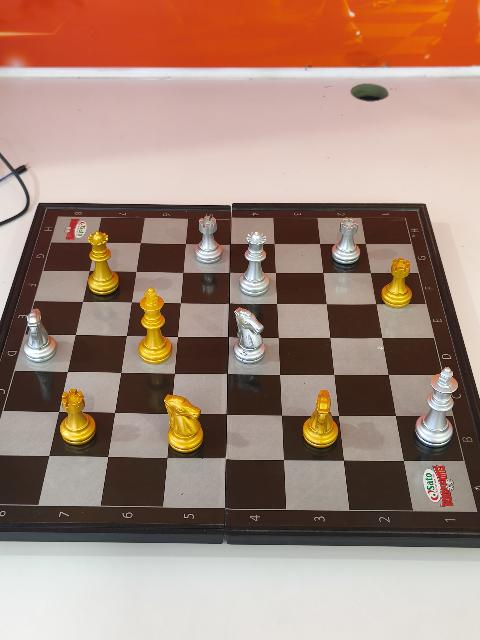black_bishop: (302, 388, 341, 451)
black_king: (137, 288, 174, 366)
black_knight: (163, 392, 206, 456)
black_queen: (86, 231, 120, 298)
black_rook: (58, 389, 98, 449), (380, 257, 414, 311)
white_bishop: (22, 308, 57, 365)
white_king: (413, 369, 459, 451)
white_knight: (233, 306, 267, 366)
white_queen: (239, 230, 271, 299)
white_rook: (331, 216, 363, 268), (194, 214, 223, 266)
